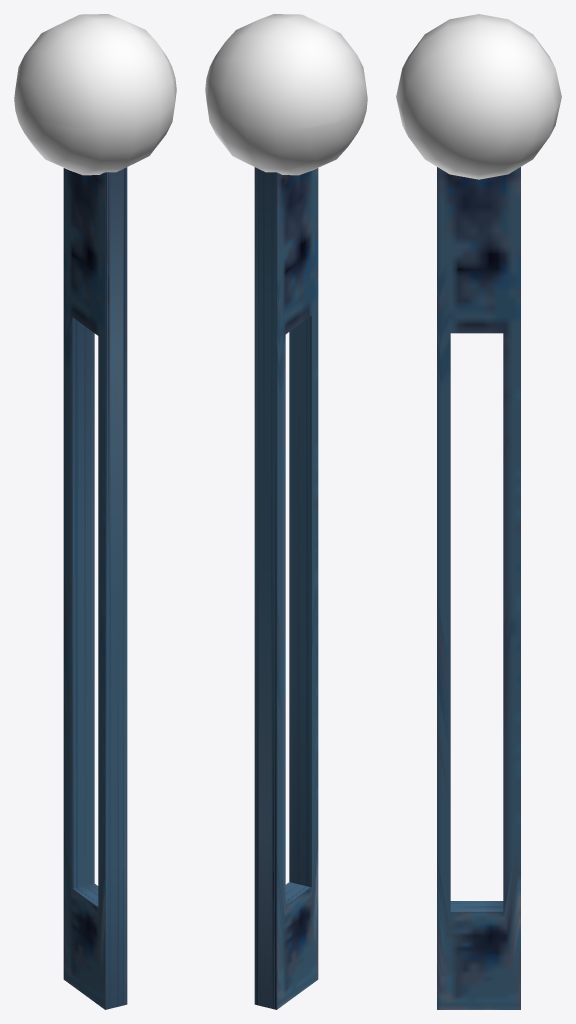
Rendered from lpost.FBX.
3 views of the same model, side by side, from view 1: azimuth 30°, elevation 25°; view 2: azimuth 150°, elevation 25°; view 3: azimuth 270°, elevation 25° (orthographic).
Visible parts, largest first — view 1: lamppost; view 2: lamppost; view 3: lamppost.
Boxes of the visible parts, x1,y1,x2,y2 form: lamppost: (14, 14, 176, 1009); lamppost: (205, 14, 367, 1009); lamppost: (396, 14, 561, 1009).
Size of the model in its own units: 19.21 by 19.21 by 126.
